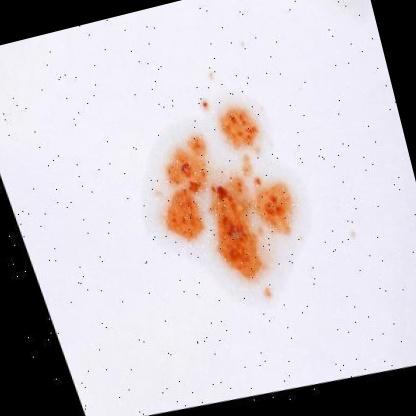kimchi: (125, 80, 320, 324)
